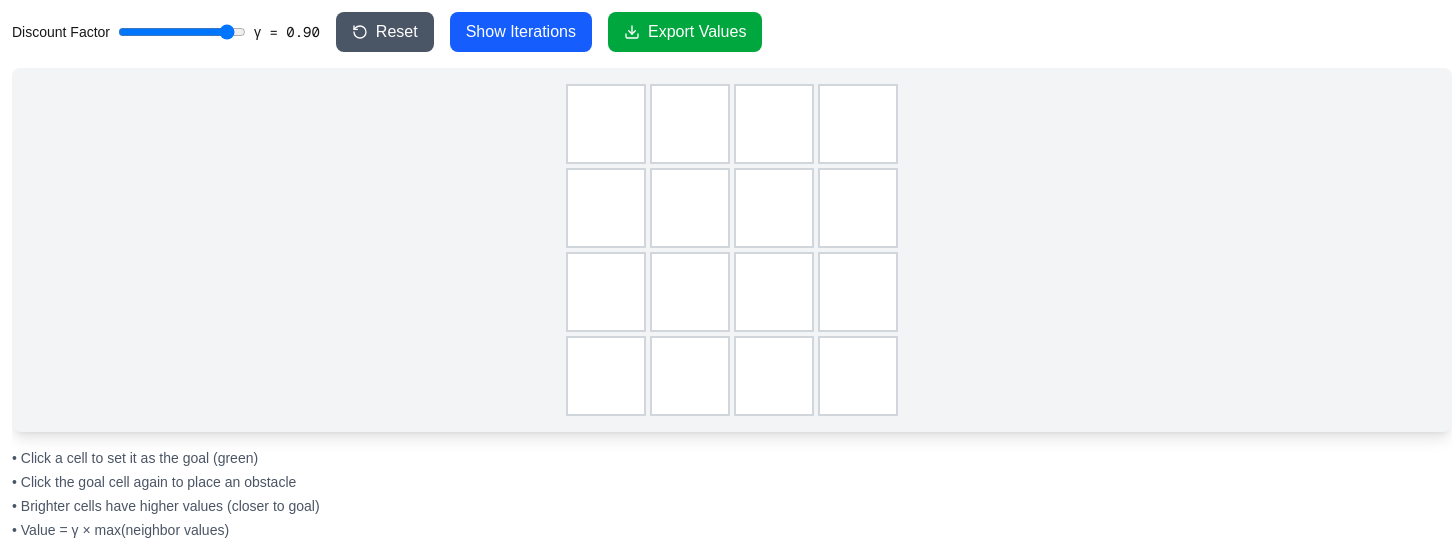
Test: ValueFunctionVisualizer Component › should handle discount factor slider
Set the slider labelled "Discount Factor" to "0.8": (216, 32) [118,24,246,40]
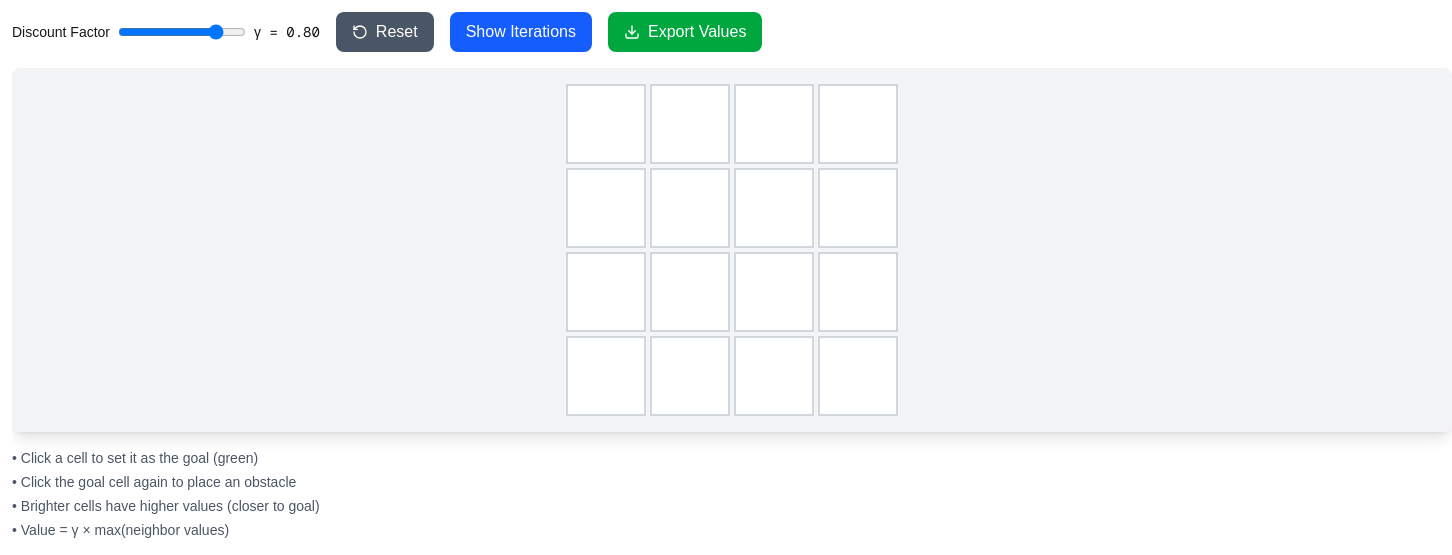
expect the text "γ = 0.80" is shown: met, box [254,22,320,42]
